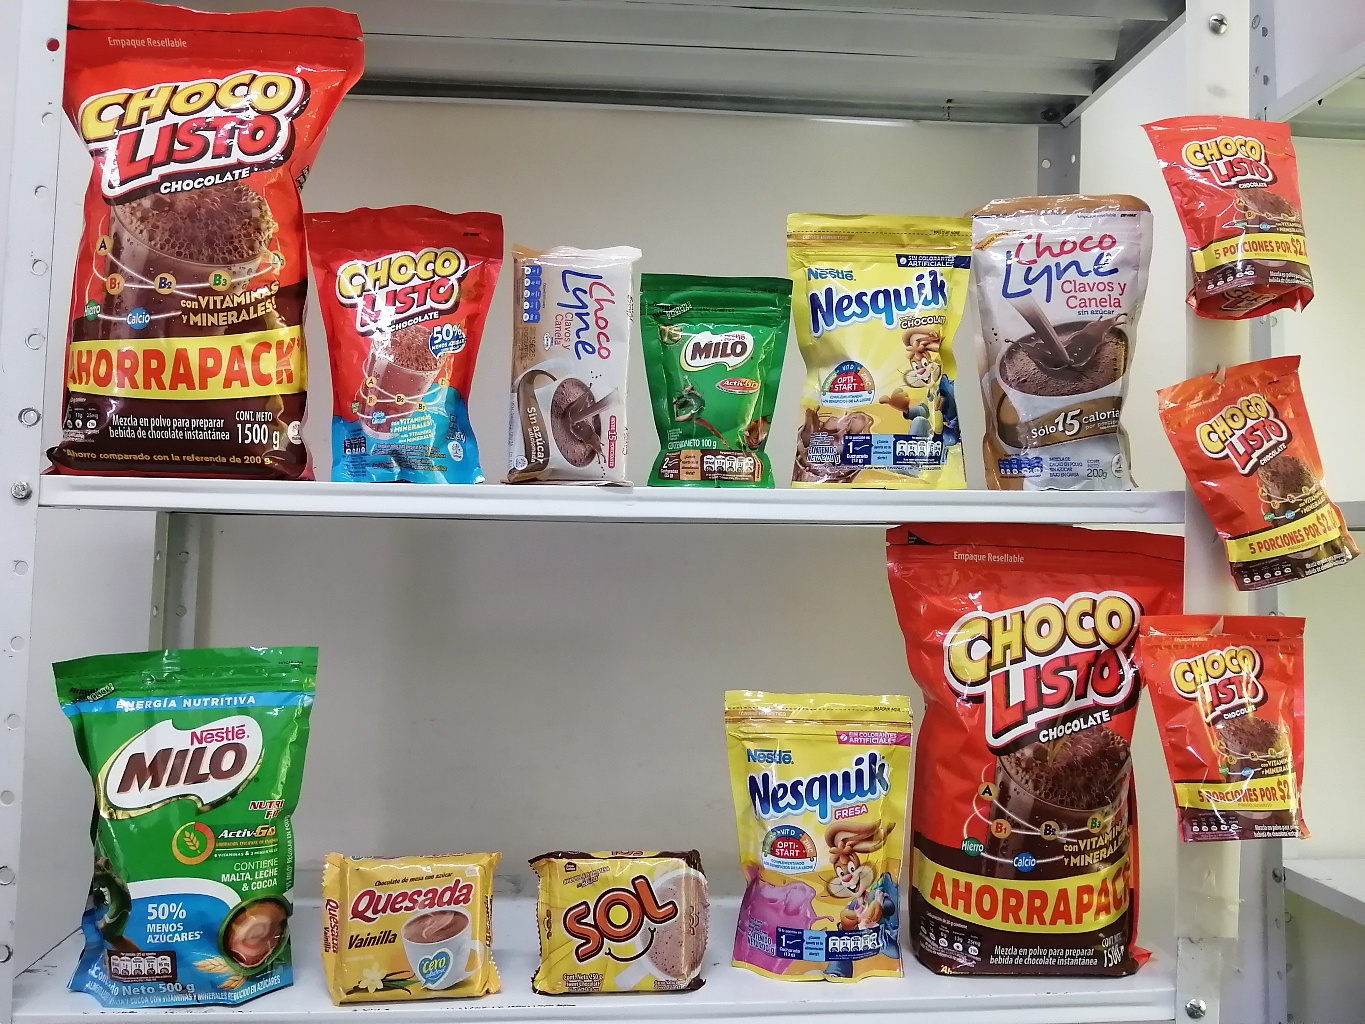COL0170103DYP1,500: (869, 510, 1188, 999)
COL0170104DYP20000: (287, 186, 517, 486)
COL0170203DYP10000: (631, 258, 797, 488)
COL0170205DYP50000: (41, 624, 331, 1020)
COL0170303DYP20000: (771, 195, 982, 497)
COL0170305DYP20000: (705, 667, 920, 986)
